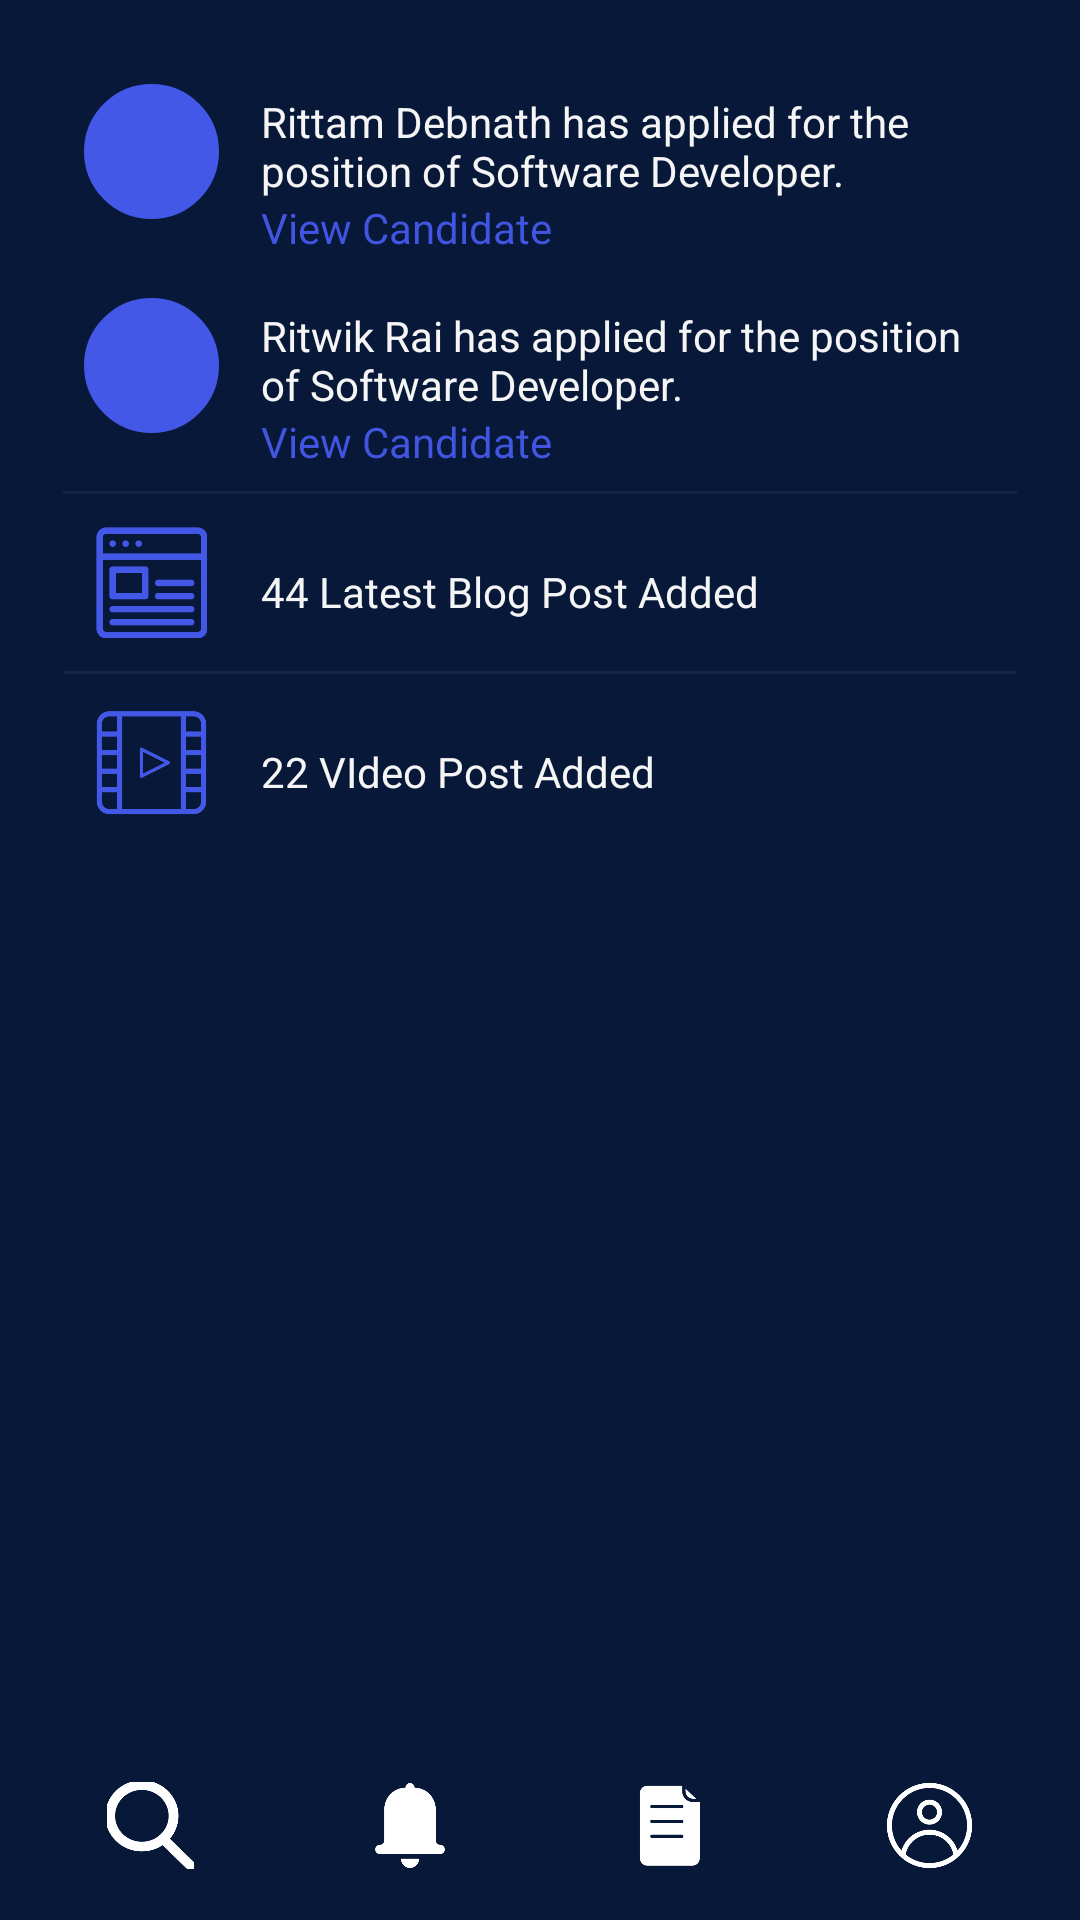

Named icons in this screenshot (1080x1920) and their centers, (x=x, y=y):
blog notification: (x=151, y=582)
notification: (x=410, y=1825)
profile: (x=929, y=1825)
search: (x=150, y=1825)
task: (x=670, y=1826)
video notification: (x=151, y=762)
